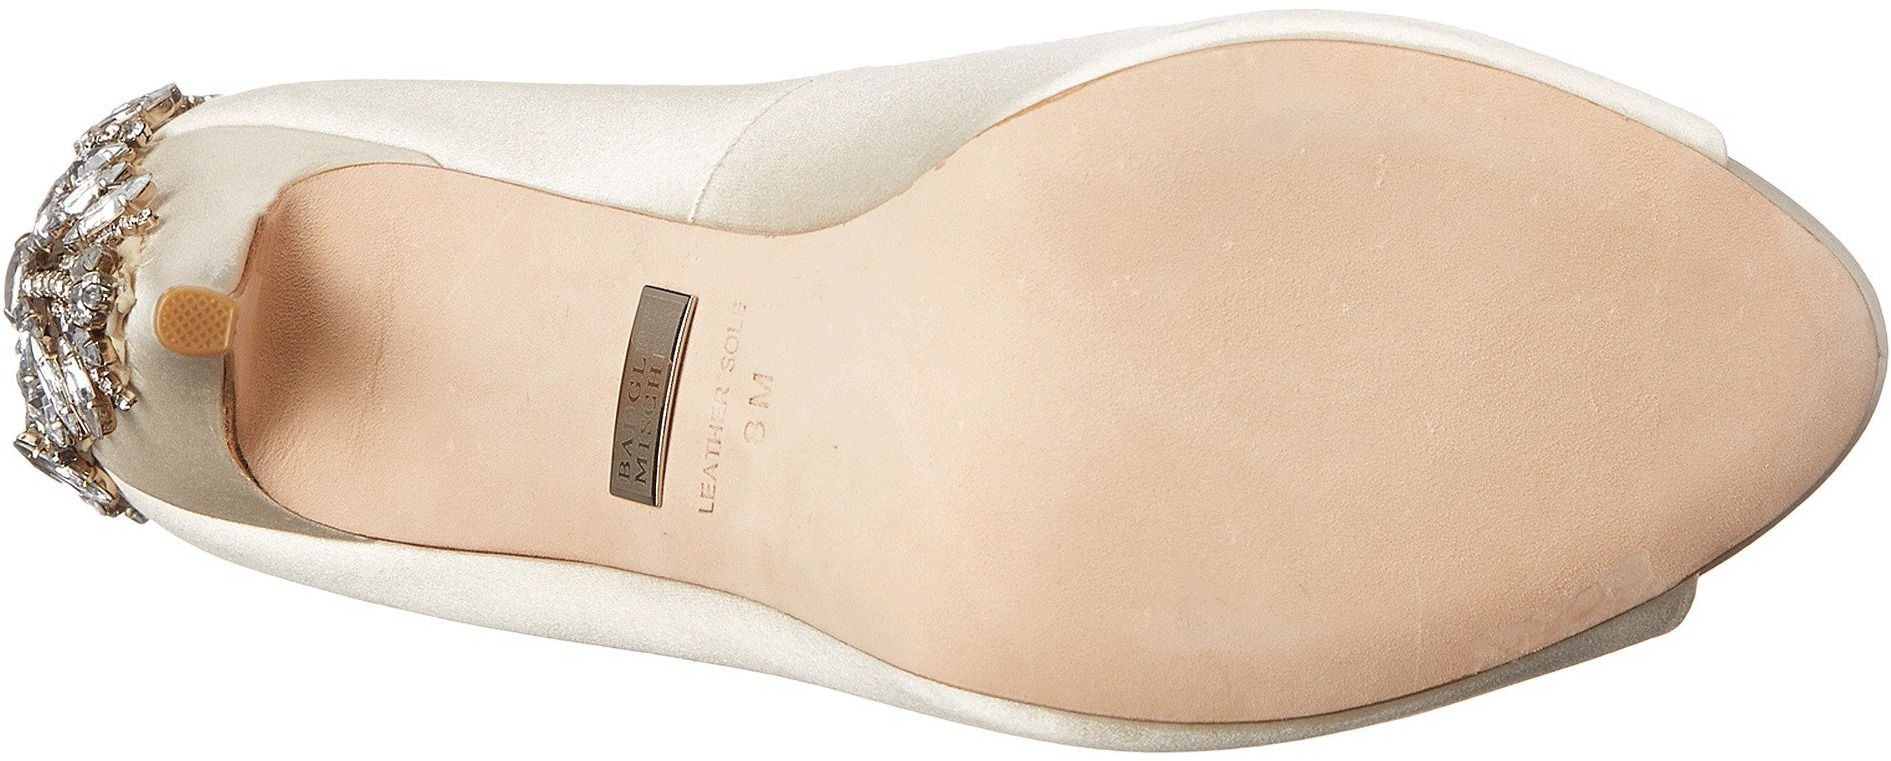exclude: (188, 142, 803, 626)
other: (1464, 178, 1723, 486), (1105, 134, 1427, 371), (877, 287, 1105, 585), (1142, 399, 1462, 609), (170, 291, 224, 347)
